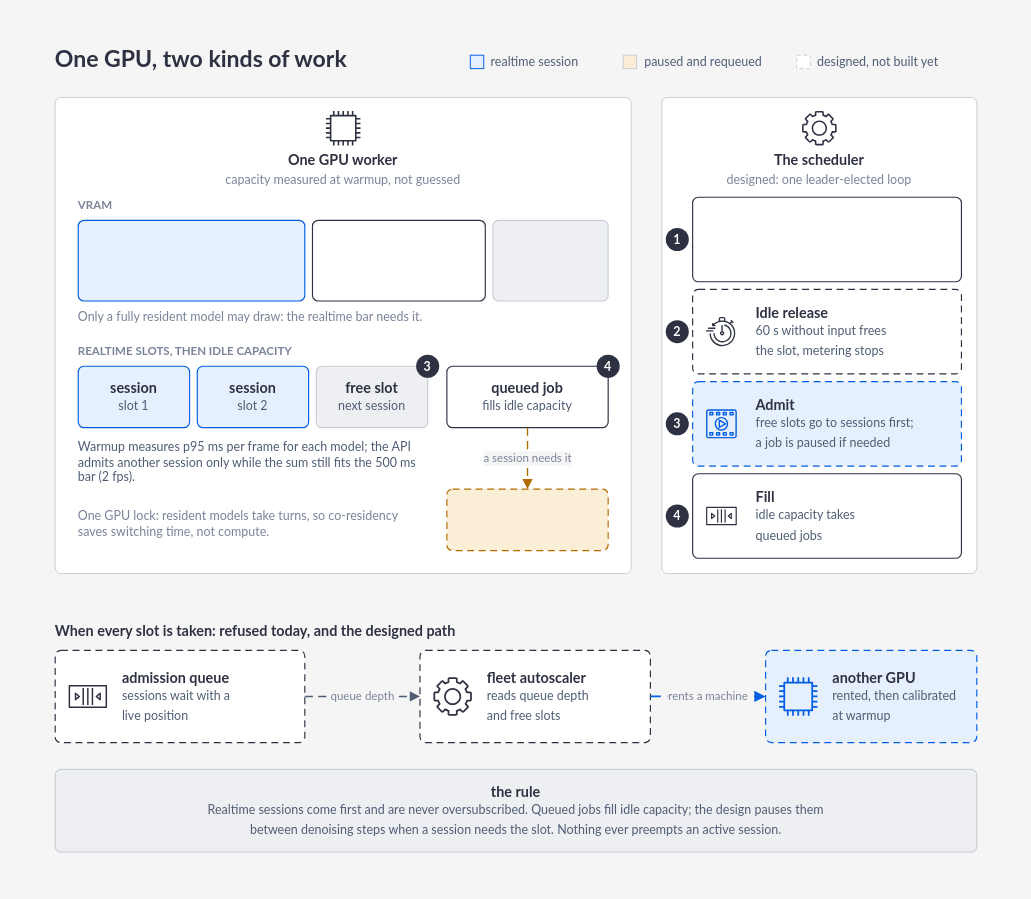
The diagram is 1031 pixels wide and 899 high, and some of its shapes have lost their labels. Each missing label, with the centre of its shape:
"free measured live" belongs at (550,260).
"on demand loaded on a miss, coldest evicted first" belongs at (398,260).
"paused between denoising steps, requeued" belongs at (527,519).
"Reconcile an expired heartbeat requeues its jobs; sessions reassign" belongs at (827,239).
"resident, kept warm fast models for drawing, fully in VRAM" belongs at (191,260).
